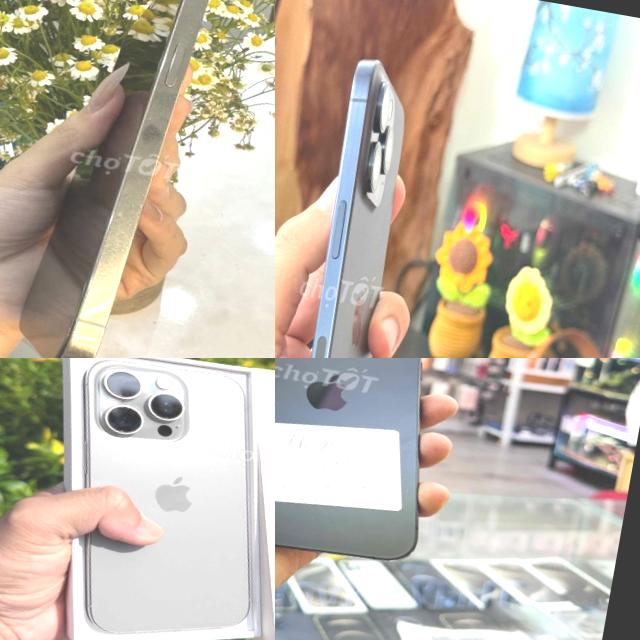gen_15: (12, 0, 251, 358), (275, 32, 447, 358), (275, 358, 479, 583)
gen_16: (70, 358, 251, 637)
scratch: (80, 98, 184, 305), (307, 354, 314, 358)
